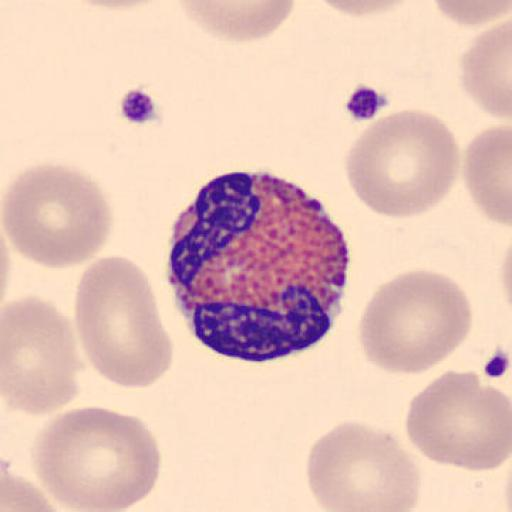Platelet: (340, 80, 392, 126)
RBC: (33, 404, 162, 511), (73, 256, 174, 390), (342, 106, 460, 220), (356, 268, 474, 377), (0, 160, 114, 270), (305, 417, 422, 512), (404, 370, 512, 472), (2, 296, 82, 416), (458, 14, 512, 120), (462, 122, 512, 228), (172, 0, 297, 42), (1, 467, 72, 512), (432, 0, 512, 28), (310, 0, 419, 18), (51, 0, 179, 13)
WBC: (166, 170, 350, 363)
